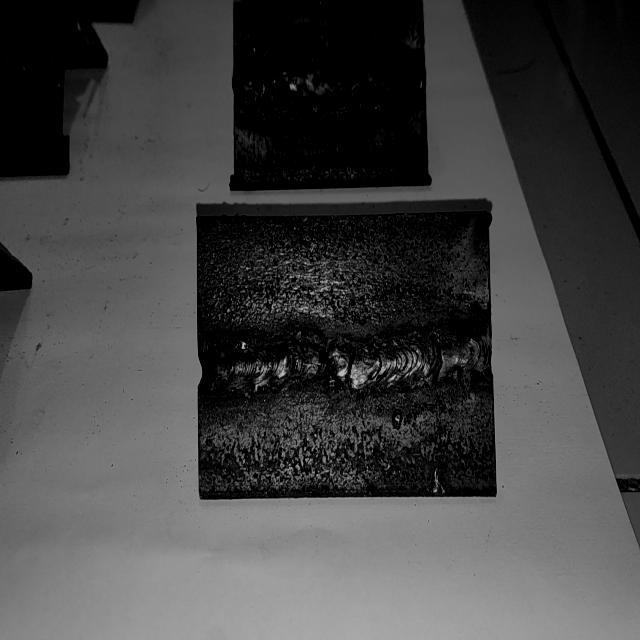Defect: (238, 54, 300, 118), (311, 329, 357, 397)
Welding Line: (205, 332, 489, 392), (235, 61, 425, 112), (0, 51, 63, 96)
Workpiece: (196, 198, 494, 500), (228, 0, 430, 192), (0, 0, 74, 181)
